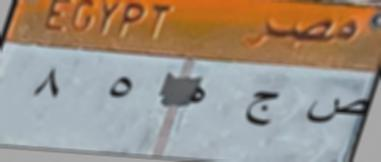5: (97, 62, 144, 114)
8: (16, 62, 74, 108)
haa: (184, 80, 212, 116)
jeem: (241, 82, 286, 133)
saad: (302, 88, 367, 130)
